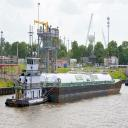tugboat: (5, 57, 50, 110)
